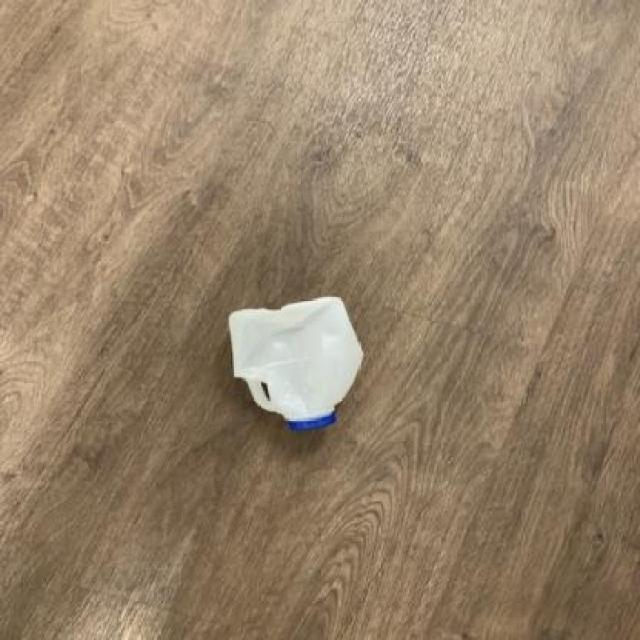trash: (220, 290, 372, 436)
